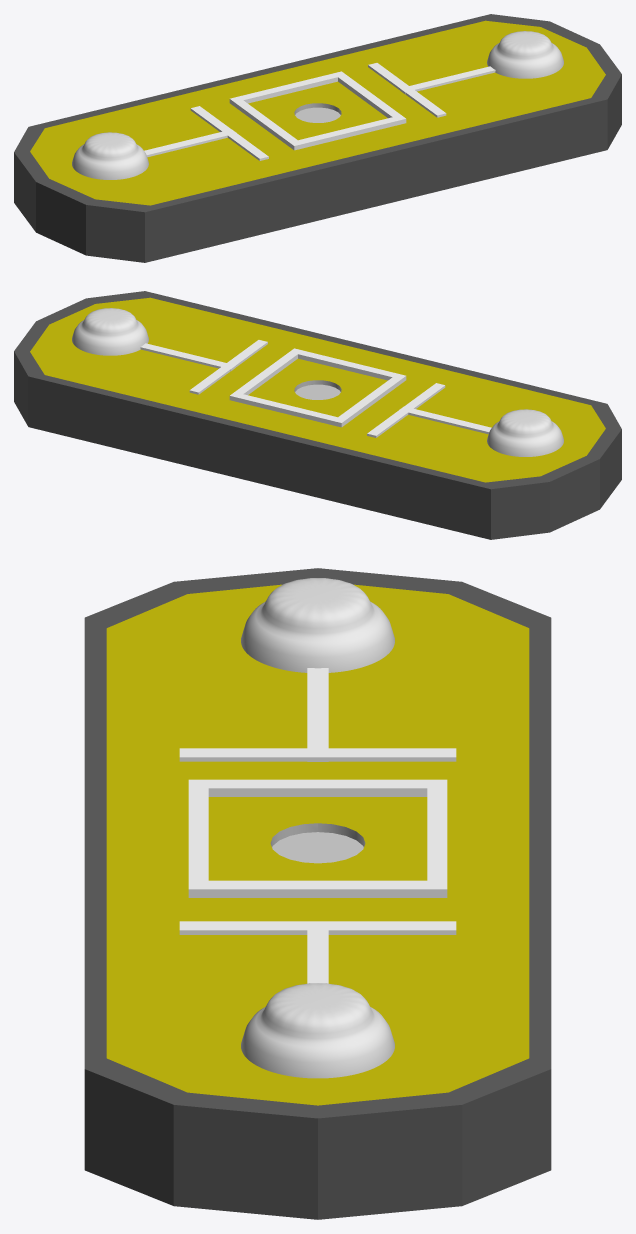
File: BarkSensor.fbx
3 views of the same model, one above another, from view 1: azimuth 30°, elevation 25°; view 2: azimuth 150°, elevation 25°; view 3: azimuth 270°, elevation 25° (orthographic). The views are drawn at different scales.
Visible parts, largest first — view 1: pCylinder11, pCube5, pCylinder6, pCylinder4, pCube9, pCube6, BarConnector:pCube2; view 2: pCylinder11, pCube5, pCylinder6, pCylinder4, pCube9, pCube6, BarConnector:pCube2; view 3: pCylinder11, pCube5, pCylinder4, pCylinder6, pCube9, pCube6, BarConnector:pCube2.
Boxes of the visible parts, <box> form: pCylinder11: <box>14,14,621,262</box>; pCube5: <box>229,71,406,150</box>; pCylinder6: <box>72,132,148,179</box>; pCylinder4: <box>487,31,563,78</box>; pCube9: <box>144,106,268,160</box>; pCube6: <box>368,63,446,117</box>; BarConnector:pCube2: <box>400,66,495,93</box>; pCylinder11: <box>14,291,621,539</box>; pCube5: <box>229,348,406,427</box>; pCylinder6: <box>487,409,563,456</box>; pCylinder4: <box>72,308,148,355</box>; pCube9: <box>367,383,491,437</box>; pCube6: <box>189,340,267,394</box>; BarConnector:pCube2: <box>140,343,235,370</box>; pCylinder11: <box>84,568,551,1219</box>; pCube5: <box>188,779,447,897</box>; pCylinder4: <box>241,983,394,1078</box>; pCylinder6: <box>241,578,394,672</box>; pCube9: <box>179,668,456,761</box>; pCube6: <box>179,921,456,934</box>; BarConnector:pCube2: <box>307,930,328,983</box>.
Size of the model in its own units: 5.43 by 0.7857 by 1.95.
